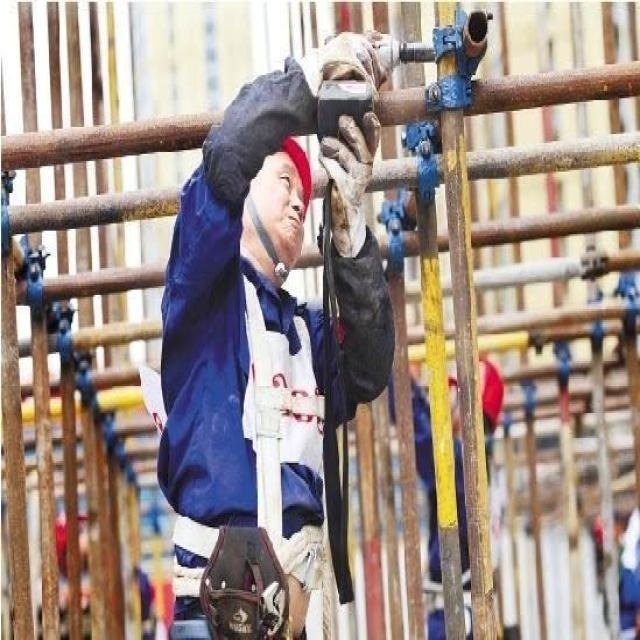Arnes_seguridad: (156, 247, 331, 592)
